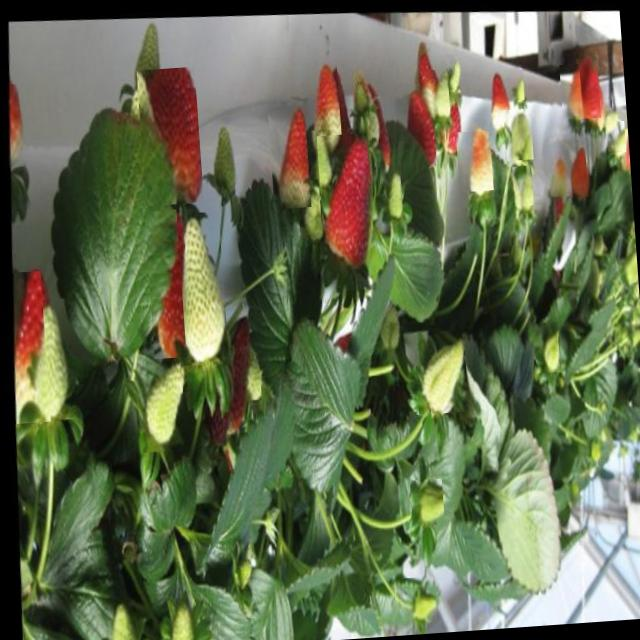ripe: (136, 66, 204, 206), (317, 132, 376, 272), (394, 82, 436, 168), (558, 139, 588, 198), (576, 57, 600, 118)
unripe: (167, 210, 230, 366), (3, 271, 50, 424), (17, 298, 73, 422), (144, 208, 186, 358), (134, 352, 187, 453), (414, 328, 468, 414), (267, 105, 311, 209), (300, 59, 342, 152), (456, 130, 494, 192), (0, 84, 24, 168), (302, 128, 334, 190), (410, 478, 444, 526), (404, 576, 438, 624), (542, 142, 572, 196), (503, 108, 533, 160), (296, 178, 322, 238), (105, 595, 139, 640), (379, 164, 404, 221), (558, 63, 582, 119), (534, 322, 560, 372), (168, 597, 198, 640), (425, 69, 450, 120), (238, 351, 261, 400), (617, 238, 638, 282), (512, 165, 534, 206), (606, 120, 626, 152), (506, 68, 524, 100), (440, 54, 456, 90), (596, 98, 613, 125), (620, 98, 628, 128)
